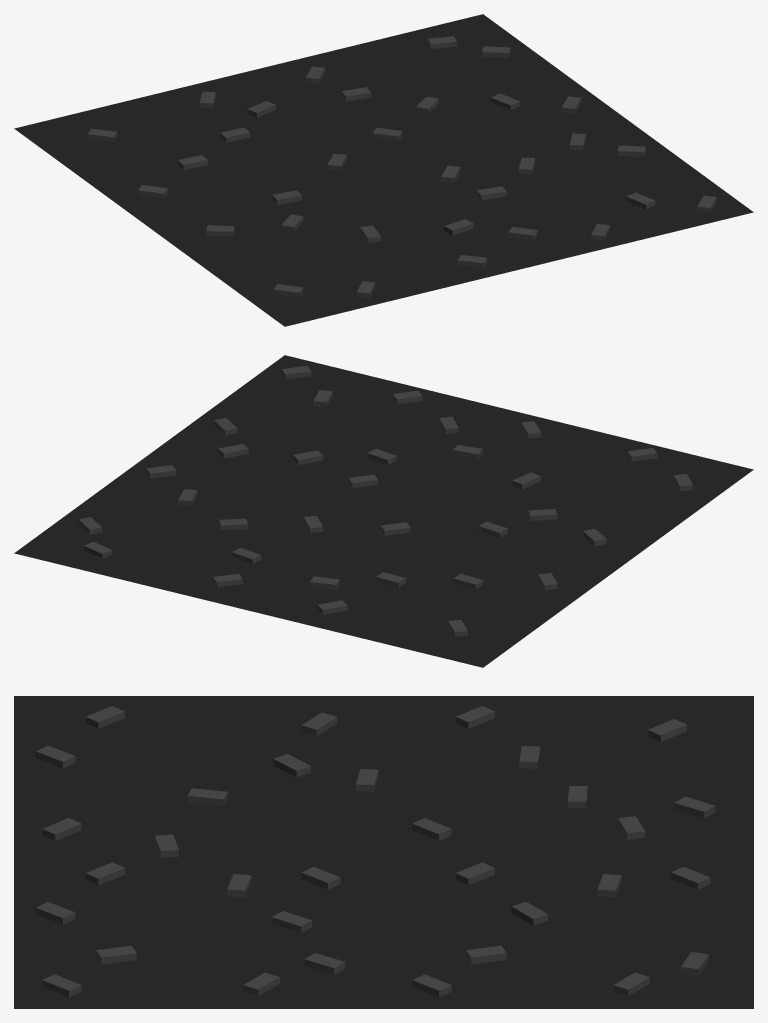
File: Floortile_1.fbx
The picture shows the model from 3 angles, top to bottom: view 1: azimuth 30°, elevation 25°; view 2: azimuth 150°, elevation 25°; view 3: azimuth 270°, elevation 25°; orthographic projection. The views are drawn at different scales.
Visible parts, largest first — view 1: Plane.002; view 2: Plane.002; view 3: Plane.002.
Boxes of the visible parts, box(x1,y1,x2,y2) form: Plane.002: box(14, 14, 753, 326); Plane.002: box(14, 355, 753, 667); Plane.002: box(14, 696, 753, 1008).
Size of the model in its own units: 400 by 4 by 400.
Materials: 1 (1 with a texture image).
